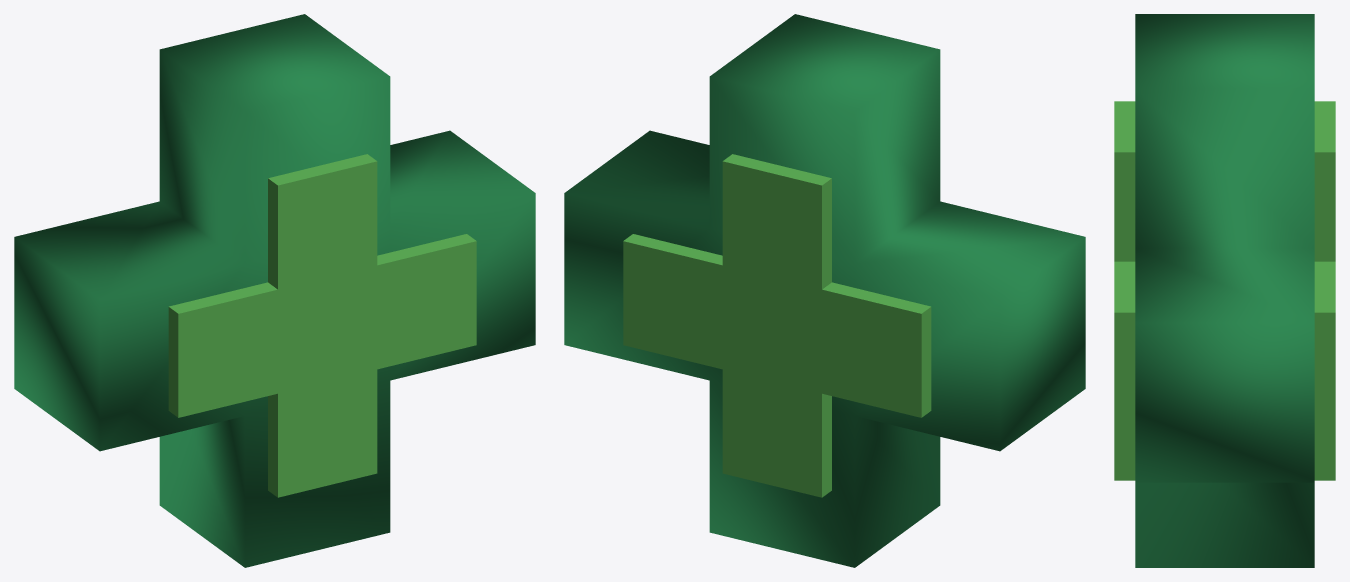
File: health_particle.glb
3 renders of one model, left to right at view 1: azimuth 30°, elevation 25°; view 2: azimuth 150°, elevation 25°; view 3: azimuth 270°, elevation 25°, orthographic. The views are drawn at different scales.
Parts seen in each view (by area): view 1: Main; view 2: Main; view 3: Main.
Boxes of the visible parts, x1,y1,x2,y2 form: Main: (14,14,535,567); Main: (564,14,1085,567); Main: (1114,14,1335,567).
Bounding box in the file's own units: 5.89 × 5.89 × 2.47.
1 material, 1 textured.
